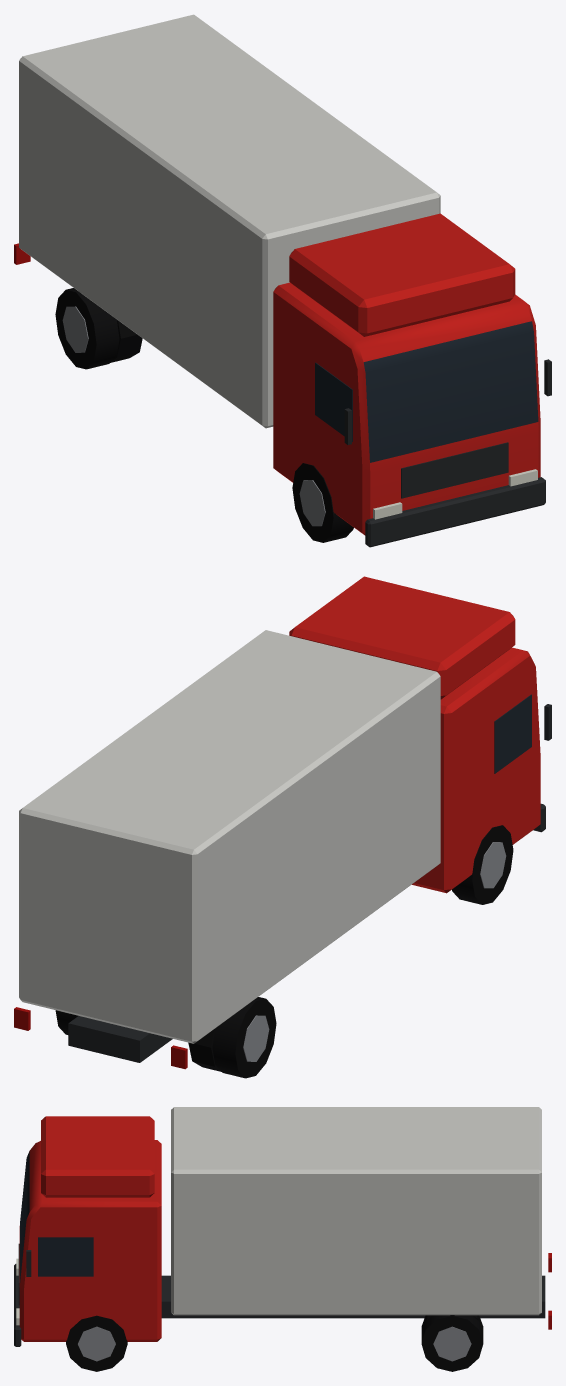
File: camion_porteur.glb
3 renders of one model, top to bottom at view 1: azimuth 30°, elevation 25°; view 2: azimuth 150°, elevation 25°; view 3: azimuth 270°, elevation 25°, orthographic. The views are drawn at different scales.
Visible parts, largest first — view 1: camion_porteur; view 2: camion_porteur; view 3: camion_porteur.
Part boxes in pixels (x1,y1,x2,y2): camion_porteur: (14, 14, 551, 547); camion_porteur: (14, 576, 551, 1078); camion_porteur: (14, 1107, 551, 1371).
Bounding box in the file's own units: 2.86 × 3.58 × 8.7.
